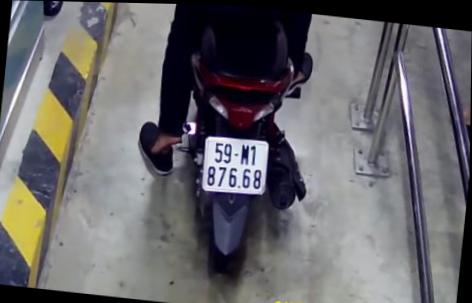LP: (202, 133, 270, 194)
